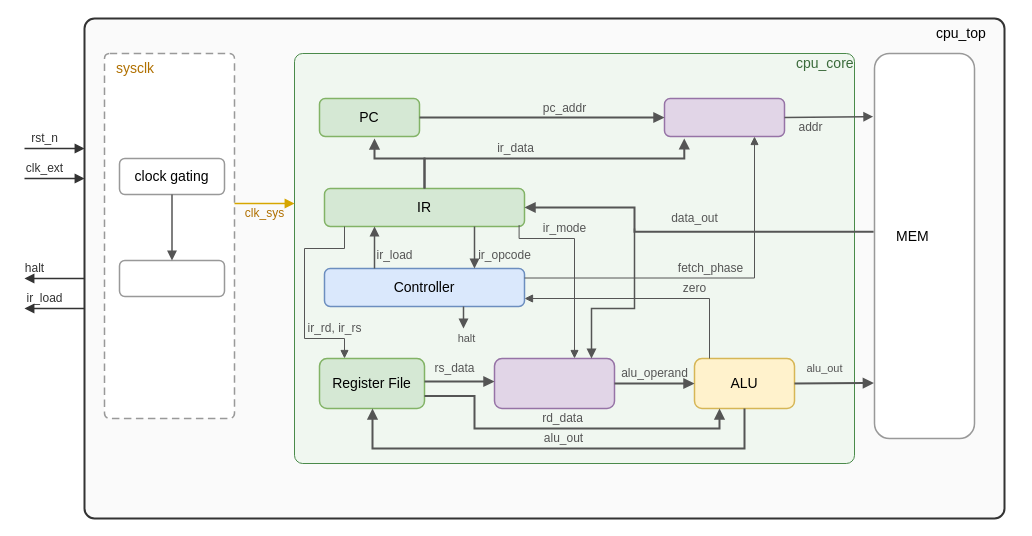
The diagram is 1032 pixels wide and 536 high, and some of its shapes have lost their labels. Here are the shapes that lost their labels. From the top down, the centre of each, then its label:
At point 724,117: "addr_mux".
At point 171,278: "divide-by-2".
At point 554,383: "op_mux".
